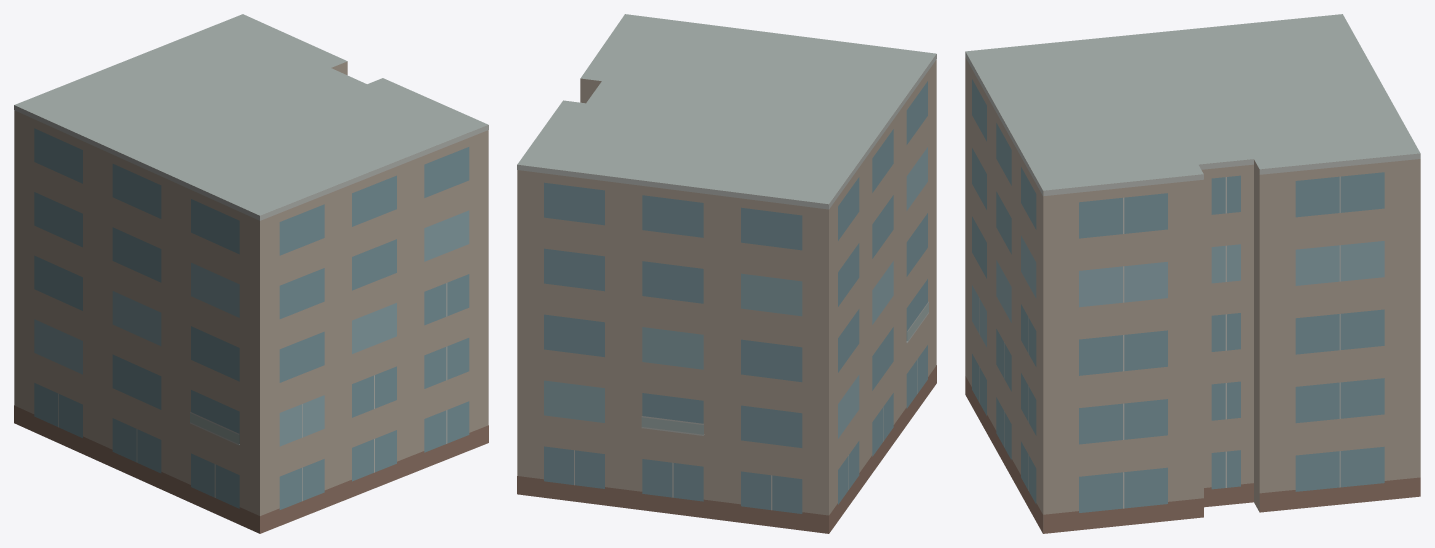
Rendered from survey-upis-32954606.glb.
3 views of the same model, side by side, from view 1: azimuth 30°, elevation 25°; view 2: azimuth 150°, elevation 25°; view 3: azimuth 270°, elevation 25° (orthographic). The views are drawn at different scales.
Visible parts, largest first — view 1: survey-upis-32954606.tmp; view 2: survey-upis-32954606.tmp; view 3: survey-upis-32954606.tmp.
Boxes of the visible parts, x1=… form: survey-upis-32954606.tmp: x1=14, y1=14, x2=488, y2=533; survey-upis-32954606.tmp: x1=517, y1=14, x2=936, y2=533; survey-upis-32954606.tmp: x1=965, y1=14, x2=1420, y2=533.
Size of the model in its own units: 16.8 by 15.2 by 18.29.
